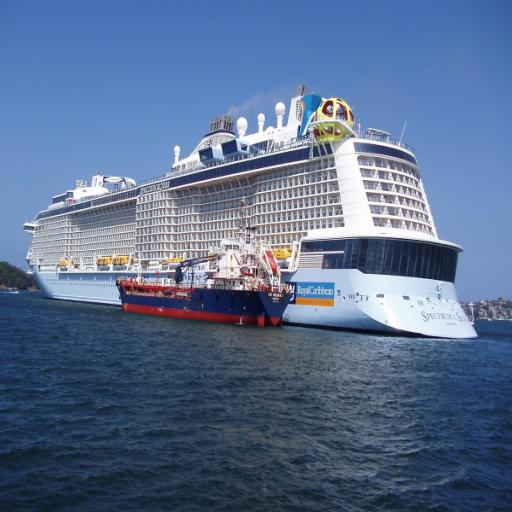cruises: (21, 84, 488, 347)
